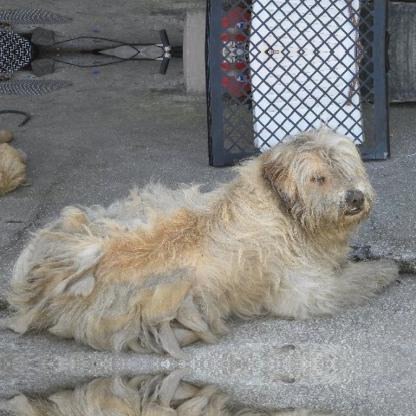Dog: (0, 122, 398, 362), (0, 366, 399, 415), (0, 127, 32, 196)
